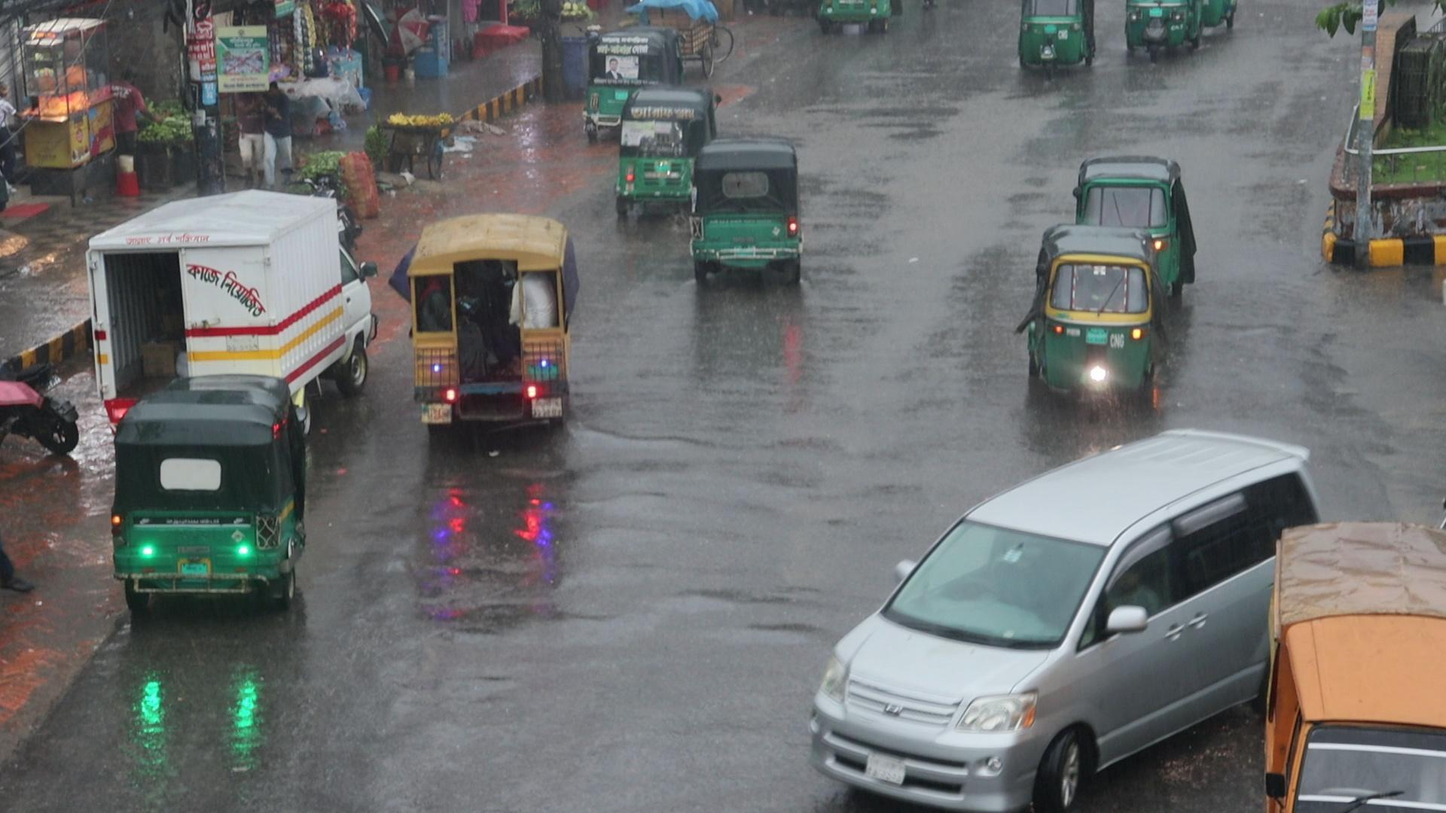Car: (805, 427, 1309, 813)
Truck: (406, 211, 572, 437)
